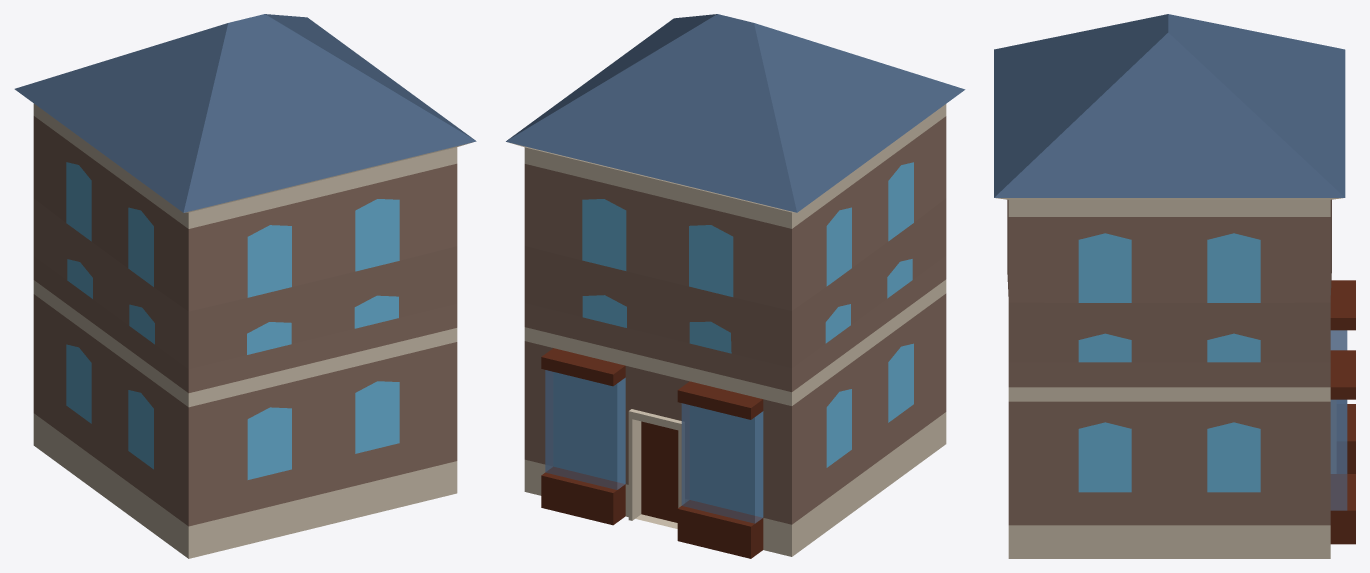
File: HOUSE_STORE_1_REDUCED.fbx
The picture shows the model from 3 angles, left to right: view 1: azimuth 30°, elevation 25°; view 2: azimuth 150°, elevation 25°; view 3: azimuth 270°, elevation 25°; orthographic projection. The views are drawn at different scales.
Visible parts, largest first — view 1: House 1; view 2: House 1; view 3: House 1.
Part boxes in pixels (box(x1,y1,x2,y2)): House 1: box(14, 14, 476, 558); House 1: box(506, 14, 965, 558); House 1: box(994, 14, 1355, 558).
Size of the model in its own units: 1132 by 1664 by 1166.
